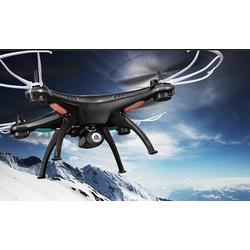drone: (1, 50, 225, 181)
